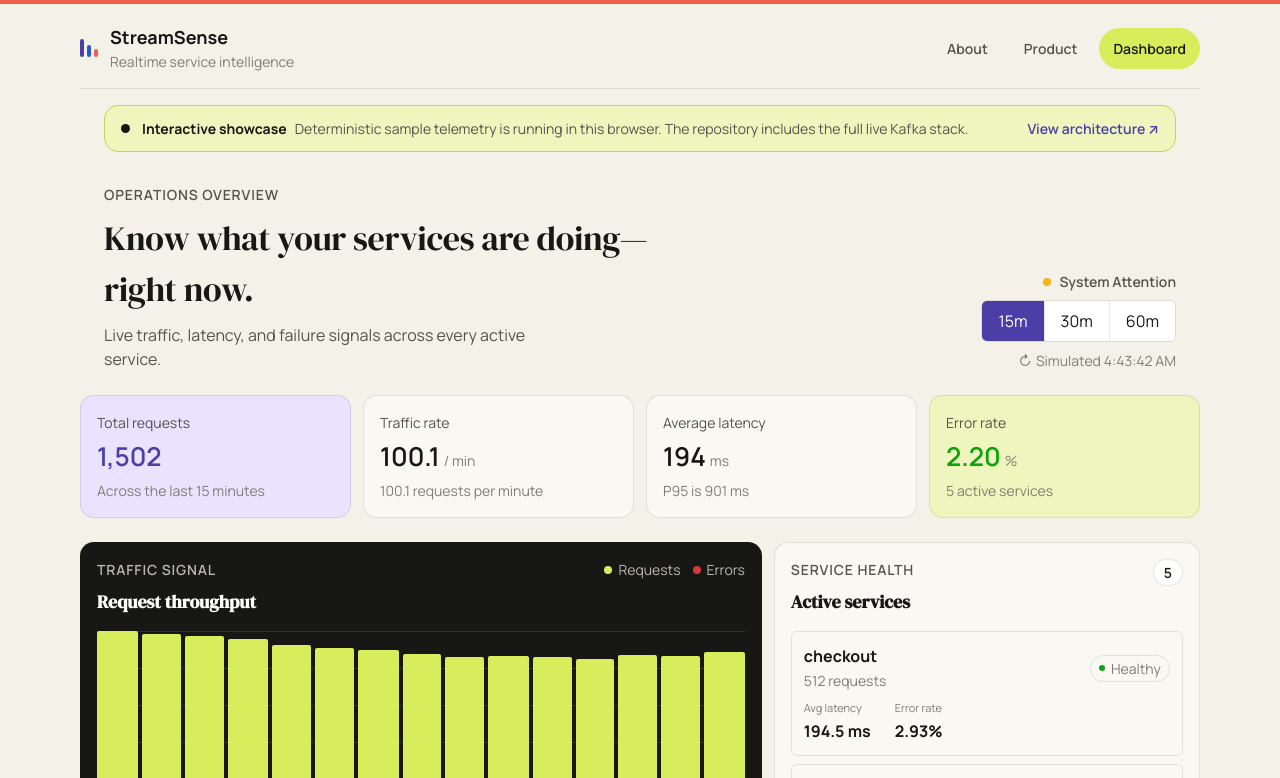
Test: DashboardPage › changes the showcase window from the segmented control
Click the button "60m".
click(1142, 321)  # box [1109,301,1175,341]
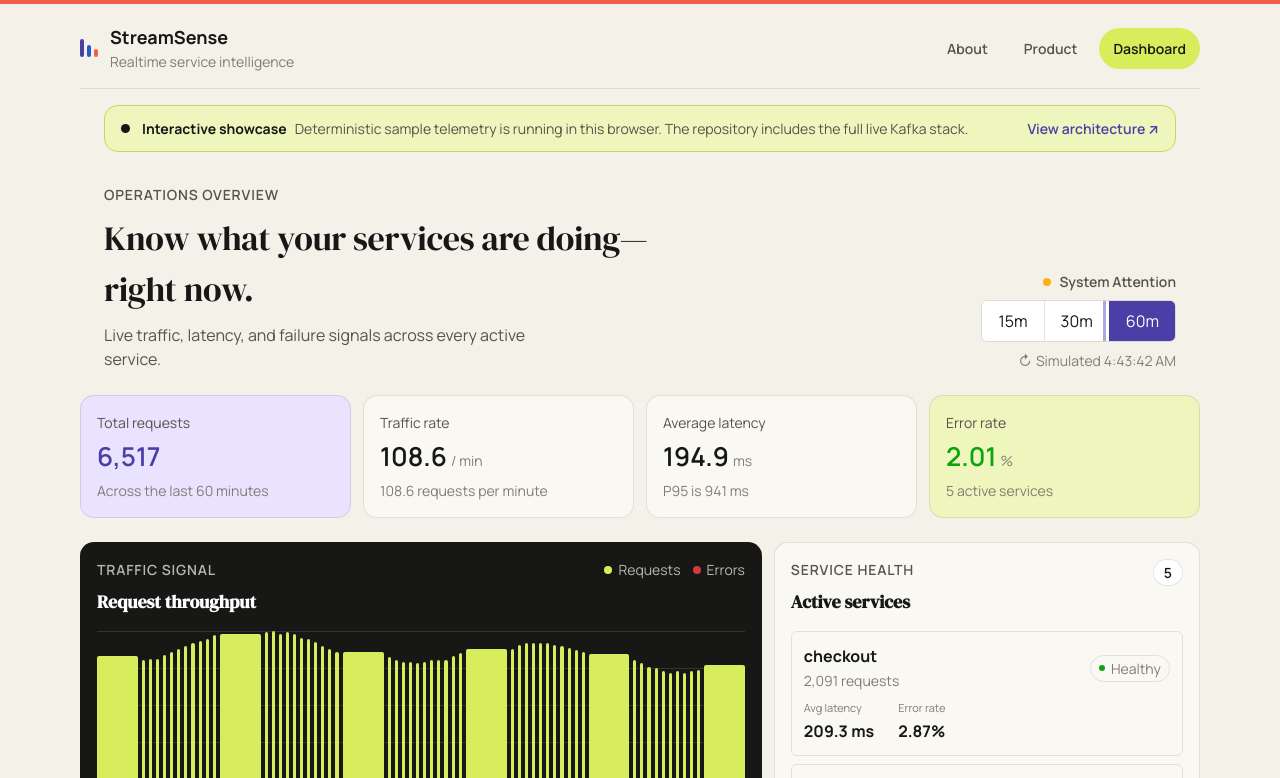
Expected: the text "Across the last 60 minutes" is shown, [97,481,269,500]
